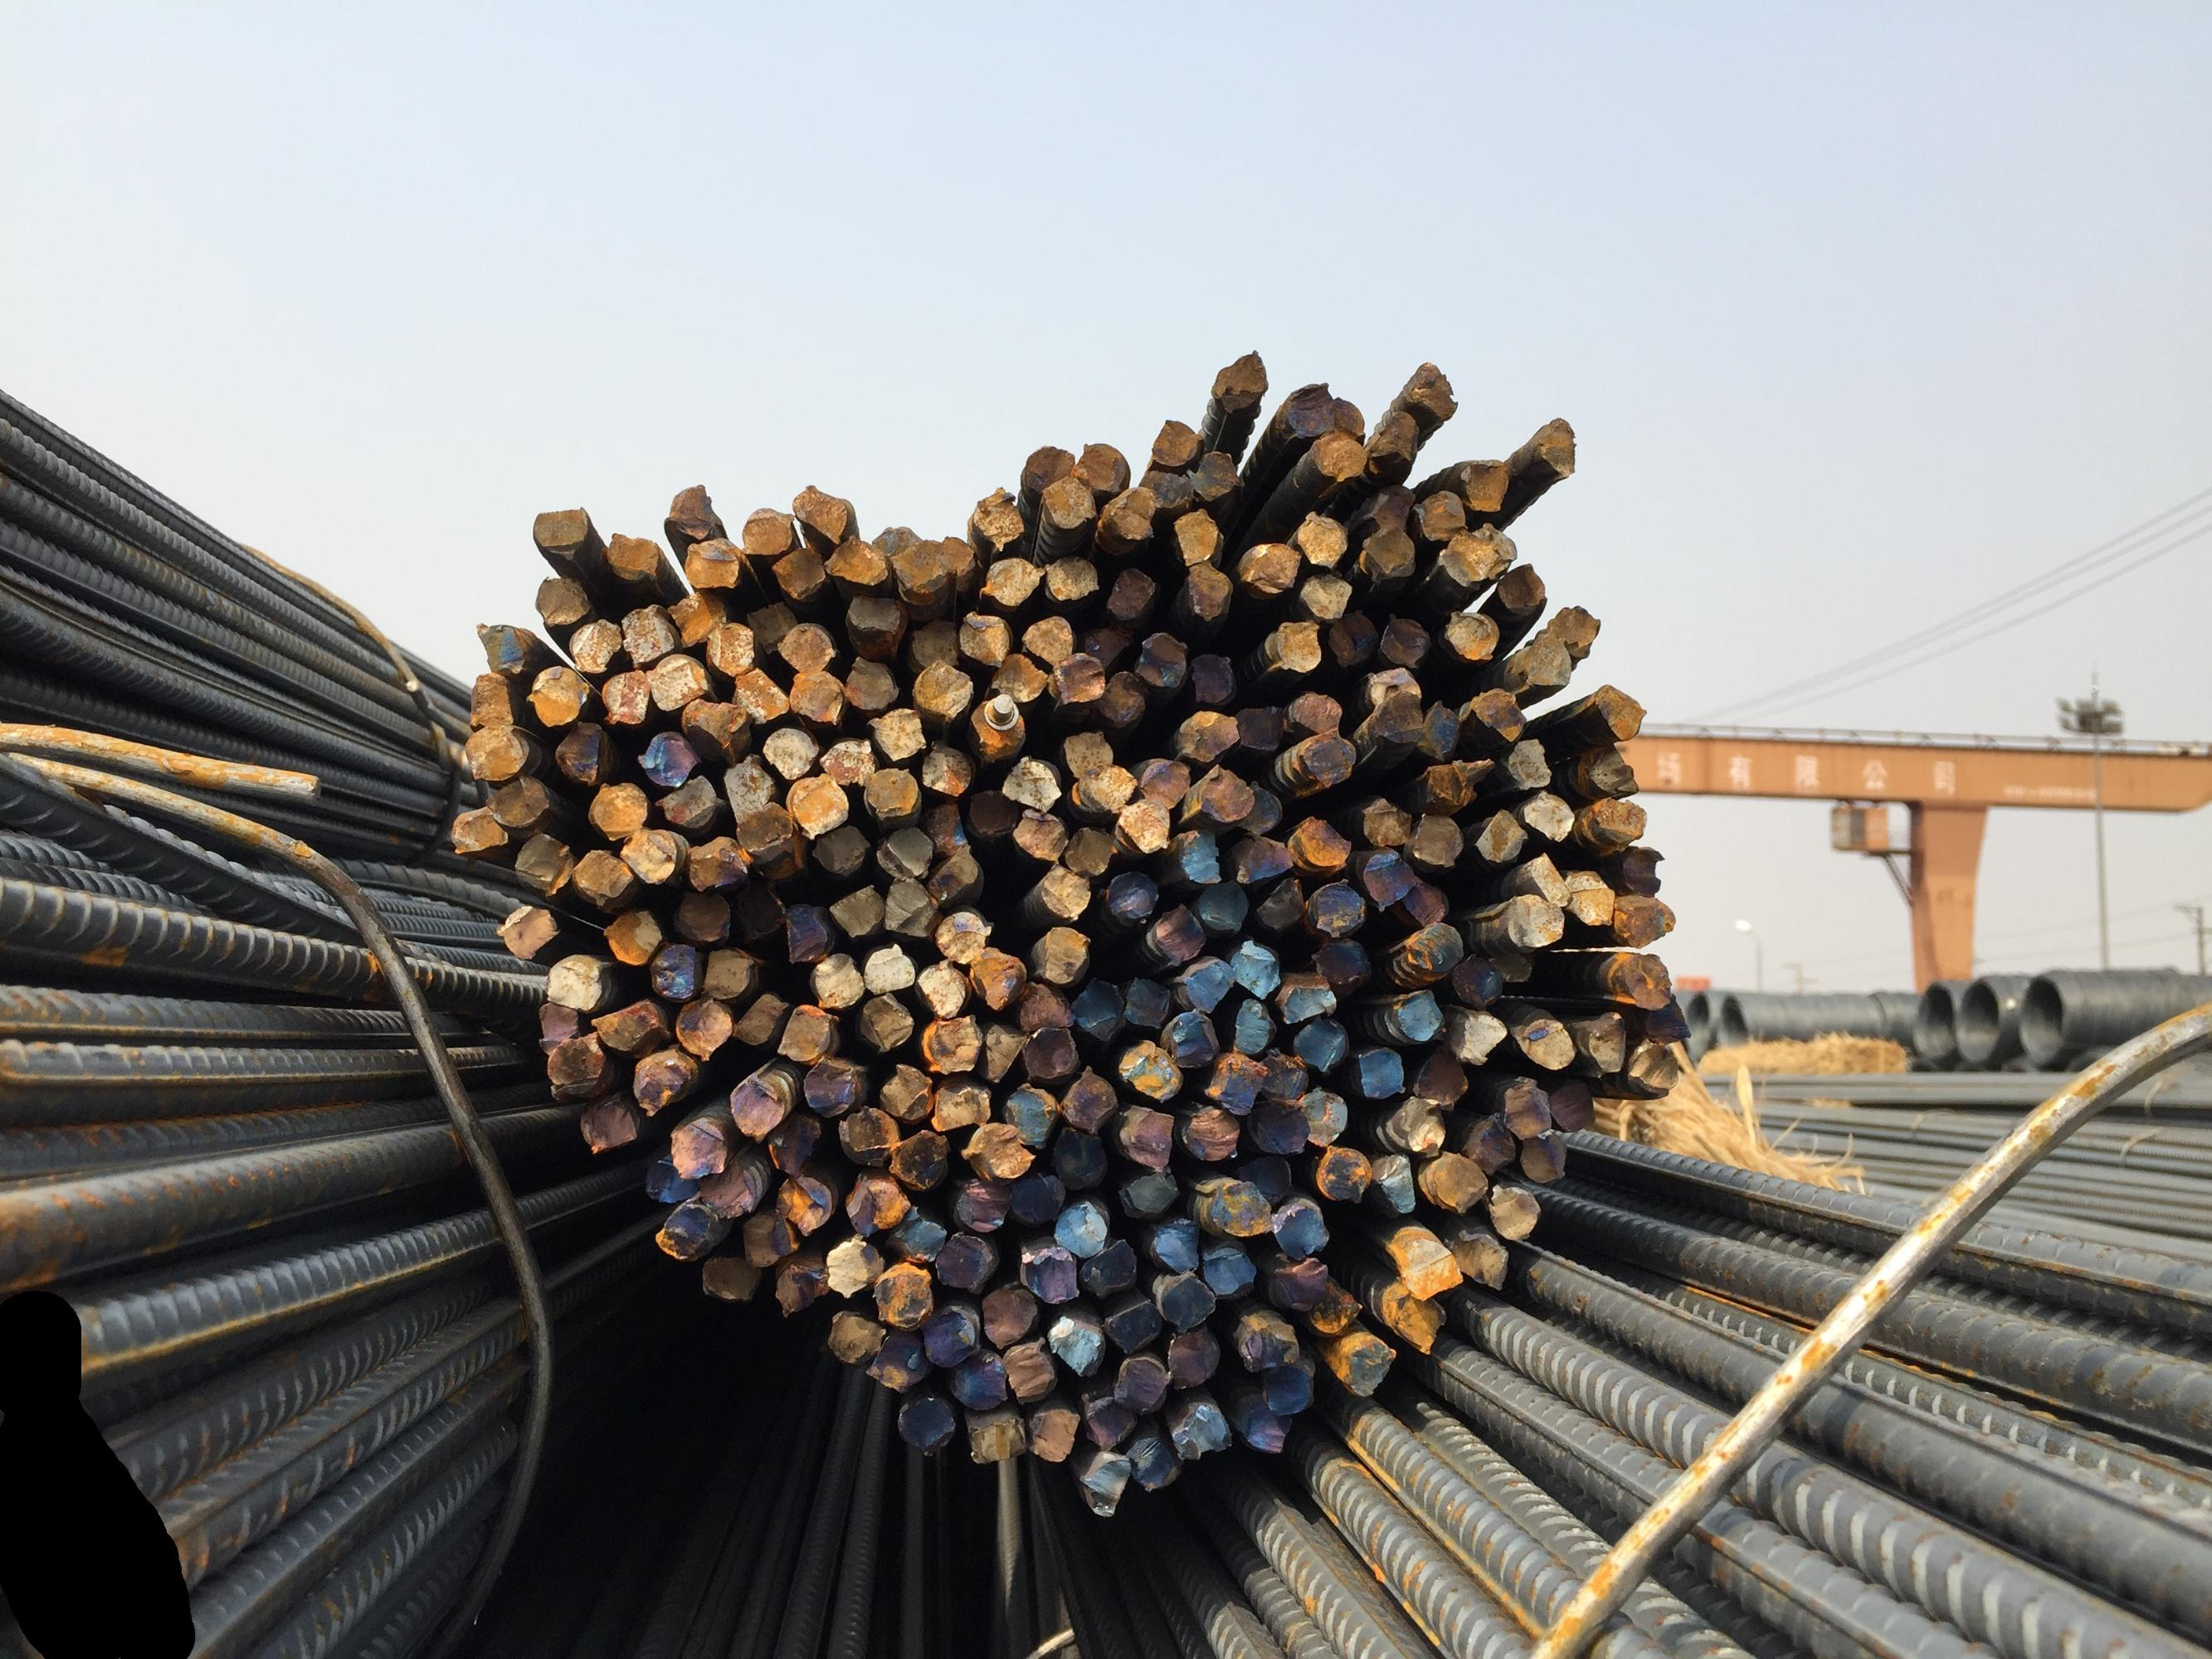bar: (523, 662, 591, 727), (845, 1168, 910, 1236), (960, 1121, 1035, 1178), (784, 772, 849, 838), (887, 1124, 950, 1192), (980, 1279, 1039, 1351), (1060, 1063, 1119, 1134), (1117, 1037, 1182, 1101), (511, 829, 573, 896), (872, 1263, 934, 1330), (546, 1030, 607, 1098), (865, 1330, 933, 1391), (1396, 1237, 1464, 1298), (873, 1208, 945, 1265), (652, 774, 725, 829), (908, 657, 973, 720), (652, 1201, 718, 1262), (931, 1229, 992, 1295), (1117, 1103, 1177, 1171), (680, 697, 751, 753), (729, 1070, 784, 1141), (720, 751, 774, 824), (1203, 1053, 1265, 1115), (770, 1175, 835, 1236), (920, 1304, 981, 1368), (835, 1103, 899, 1164), (1210, 347, 1271, 411), (464, 721, 530, 781), (634, 730, 701, 789), (1002, 1335, 1058, 1405), (544, 950, 605, 1012), (589, 999, 662, 1051), (947, 1349, 1008, 1412), (1018, 1244, 1081, 1305), (1077, 1236, 1138, 1298), (824, 1232, 884, 1297), (495, 903, 561, 960), (683, 833, 750, 890), (1048, 1312, 1105, 1378), (1510, 1012, 1576, 1070), (485, 774, 553, 829), (631, 1053, 692, 1114), (572, 847, 633, 908), (668, 1115, 729, 1176), (1267, 1255, 1328, 1316), (1180, 1103, 1241, 1164), (675, 999, 734, 1061), (617, 826, 680, 885), (1246, 1096, 1309, 1155), (1271, 1195, 1330, 1258), (1501, 890, 1564, 950), (1609, 950, 1672, 1009), (763, 1110, 821, 1175), (1206, 1180, 1271, 1237), (1070, 976, 1124, 1044), (1367, 410, 1421, 477), (601, 906, 662, 965), (896, 1394, 955, 1455), (1401, 359, 1461, 420), (1435, 528, 1496, 587), (1335, 1335, 1394, 1396), (666, 589, 729, 647), (791, 484, 854, 542), (776, 1002, 833, 1065), (920, 1016, 983, 1073), (1412, 1042, 1469, 1105), (645, 653, 709, 709), (1002, 1082, 1058, 1147), (969, 484, 1023, 551), (976, 554, 1044, 606), (587, 779, 647, 838), (1021, 1025, 1081, 1084), (1161, 1009, 1220, 1068), (1307, 878, 1367, 938), (967, 695, 1025, 756), (926, 843, 983, 904), (856, 992, 913, 1053), (1156, 1272, 1217, 1330), (1001, 755, 1062, 812), (1313, 1145, 1374, 1202), (1469, 687, 1527, 748), (969, 946, 1025, 1009), (824, 1309, 887, 1364), (950, 1176, 1013, 1232), (1051, 1127, 1107, 1190), (1150, 903, 1206, 965), (621, 601, 675, 666), (551, 720, 605, 784), (891, 537, 955, 591), (884, 875, 938, 939), (1166, 1326, 1220, 1391), (1236, 1317, 1300, 1371), (1584, 795, 1649, 849), (1612, 894, 1677, 948), (823, 533, 889, 586), (1173, 709, 1239, 762), (736, 800, 793, 859), (699, 1159, 757, 1218), (1428, 1152, 1487, 1209), (1292, 814, 1351, 871), (1586, 685, 1645, 742), (662, 484, 723, 540), (865, 706, 926, 762), (1112, 1354, 1168, 1415), (1239, 540, 1300, 596), (1403, 922, 1464, 978), (1581, 742, 1642, 798), (669, 890, 732, 945), (680, 537, 744, 589), (1363, 847, 1415, 911), (1422, 760, 1487, 812), (1079, 1452, 1130, 1518), (1501, 1072, 1551, 1138), (1048, 650, 1105, 708), (730, 990, 788, 1047), (1389, 1293, 1447, 1351), (743, 1209, 798, 1269), (1025, 1405, 1081, 1464), (802, 1056, 858, 1115), (877, 1061, 933, 1121), (1103, 1297, 1163, 1352), (1234, 1398, 1293, 1453), (1279, 380, 1335, 439), (1300, 728, 1356, 788), (1198, 763, 1253, 823), (1408, 810, 1464, 870), (872, 826, 933, 880), (1170, 1403, 1231, 1457), (1293, 507, 1347, 568), (927, 1077, 992, 1127), (1466, 1112, 1517, 1176), (769, 545, 826, 601), (957, 608, 1013, 666), (934, 908, 992, 964), (774, 1260, 830, 1317), (1051, 1199, 1107, 1256), (1259, 1358, 1316, 1413), (1011, 807, 1069, 863), (1133, 631, 1189, 688), (579, 1098, 638, 1152), (730, 667, 790, 721), (760, 725, 819, 779), (818, 732, 877, 786), (730, 882, 784, 941), (1035, 925, 1089, 985), (1199, 1244, 1259, 1298), (1452, 458, 1511, 512), (1358, 526, 1417, 580), (1485, 1180, 1539, 1239), (530, 505, 591, 558), (1171, 505, 1224, 566), (1295, 1084, 1347, 1145), (699, 1251, 762, 1302), (1229, 936, 1279, 999), (1534, 415, 1581, 481), (1306, 939, 1372, 986), (1443, 606, 1499, 662), (1180, 957, 1236, 1012), (533, 573, 591, 627), (788, 671, 845, 725), (863, 765, 920, 819), (811, 950, 865, 1007), (1081, 1396, 1138, 1450), (1184, 450, 1241, 504), (1393, 1098, 1447, 1155), (1452, 1007, 1506, 1065), (472, 617, 525, 676), (647, 943, 699, 1002), (920, 739, 973, 798), (1520, 850, 1572, 910), (917, 957, 967, 1018), (1231, 833, 1293, 882), (568, 617, 622, 673), (743, 599, 798, 653), (844, 655, 899, 709), (828, 884, 884, 938), (643, 1152, 699, 1206), (1124, 1436, 1180, 1490), (1102, 486, 1156, 542), (1327, 610, 1381, 666), (1377, 610, 1431, 666), (1147, 1215, 1199, 1272), (1307, 429, 1365, 481), (1269, 617, 1321, 674), (1520, 633, 1572, 690), (1356, 795, 1414, 847), (1473, 805, 1525, 863), (784, 899, 830, 965), (450, 803, 509, 854), (600, 667, 650, 727), (777, 622, 837, 673), (1234, 1155, 1293, 1206), (1455, 1227, 1506, 1286), (1626, 1037, 1677, 1096), (987, 653, 1048, 702), (1368, 1150, 1415, 1213), (1415, 697, 1461, 762), (701, 948, 755, 1002), (1116, 798, 1170, 852), (1041, 474, 1095, 528), (1072, 439, 1126, 493), (1103, 866, 1157, 920), (465, 671, 518, 727), (1039, 863, 1091, 918), (1410, 488, 1466, 540), (1292, 1018, 1347, 1070), (1306, 1284, 1361, 1337), (1394, 986, 1447, 1042), (1394, 871, 1450, 924), (1119, 1166, 1177, 1216), (1365, 692, 1422, 742), (811, 824, 870, 873), (1077, 765, 1137, 814), (863, 941, 915, 995), (1011, 1173, 1065, 1225), (1354, 1046, 1407, 1100), (1544, 1077, 1597, 1131), (605, 532, 661, 582), (1137, 756, 1192, 807), (1504, 735, 1555, 791), (967, 1415, 1025, 1464), (1123, 972, 1171, 1030), (981, 1021, 1025, 1084), (1196, 878, 1248, 931), (1581, 1009, 1625, 1072), (1020, 613, 1074, 664), (966, 788, 1020, 838), (1520, 789, 1574, 840), (1044, 554, 1100, 603), (1494, 563, 1550, 612), (1548, 605, 1604, 653), (1185, 563, 1232, 620), (1175, 828, 1222, 885), (1285, 687, 1344, 732), (1452, 953, 1503, 1006), (706, 622, 755, 676), (910, 617, 959, 671), (1098, 671, 1147, 725), (1105, 565, 1154, 619), (1149, 416, 1203, 465), (1020, 981, 1075, 1028), (535, 1000, 580, 1058), (847, 594, 905, 640), (1257, 1049, 1307, 1100), (1257, 878, 1306, 931), (920, 800, 967, 854), (1060, 728, 1114, 775), (1297, 572, 1351, 619), (1619, 845, 1666, 899), (1231, 999, 1276, 1054), (741, 505, 791, 554), (1234, 704, 1285, 753), (1079, 622, 1133, 667), (1473, 521, 1518, 575), (1278, 981, 1339, 1021), (1358, 667, 1421, 706), (1063, 828, 1114, 875), (1189, 653, 1236, 704), (1365, 484, 1414, 532), (1520, 1134, 1569, 1182), (1642, 995, 1691, 1042), (1021, 444, 1074, 488), (1137, 467, 1192, 507), (1243, 781, 1281, 835), (1567, 885, 1616, 927), (1487, 946, 1539, 981), (936, 533, 976, 577), (870, 525, 926, 554), (1330, 396, 1365, 439), (1564, 866, 1611, 890)
